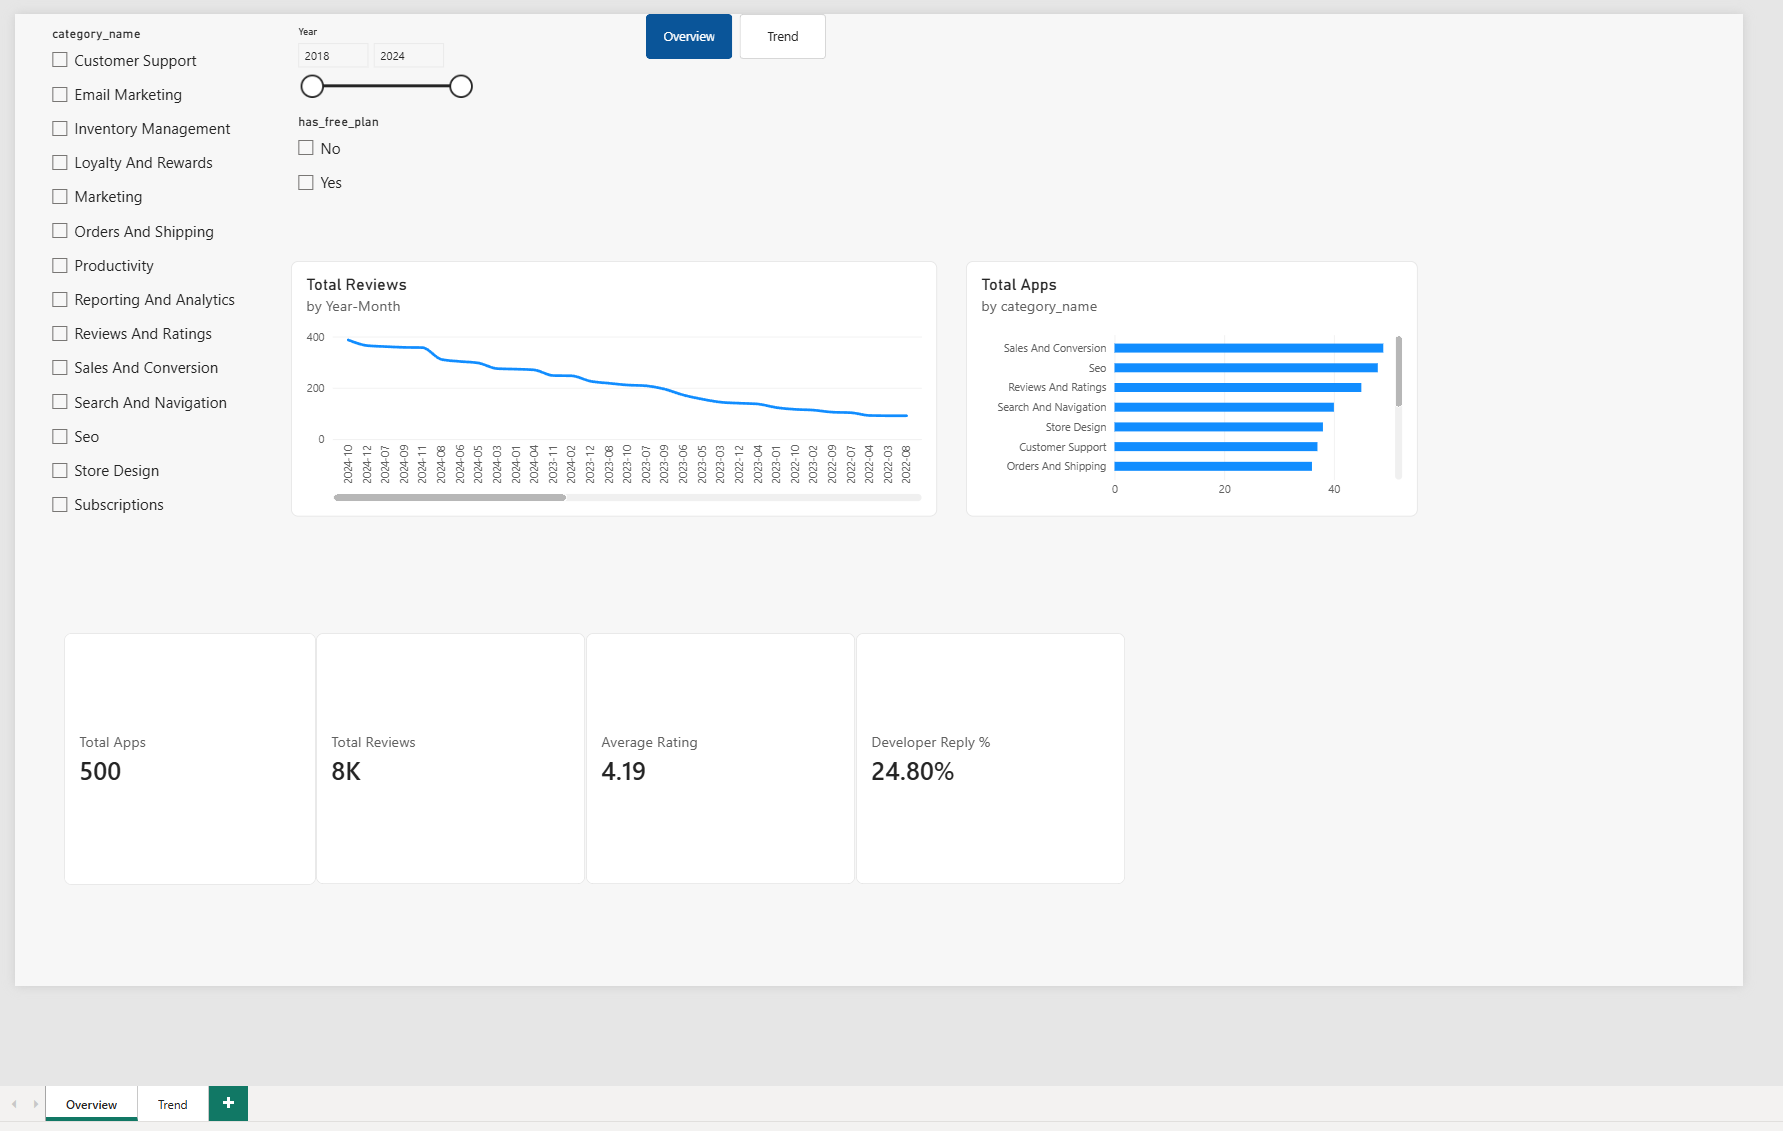

Layout of this report page (visuals, bound fields, positions):
{"tool":"powerbi","page":{"name":"Overview","canvas":[1920,1080],"ordinal":0},"visuals":[{"type":"cardVisual","fields":{"Data":["apps.Total Apps"]},"box":[55,687.6,280,280],"z":0},{"type":"cardVisual","fields":{"Data":["apps.Total Reviews"]},"box":[334.8,687.6,299.8,279.9],"z":1},{"type":"cardVisual","fields":{"Data":["apps.Average Rating"]},"box":[634.7,687.6,299.8,279.9],"z":2},{"type":"cardVisual","fields":{"Data":["apps.Developer Reply %"]},"box":[934.5,687.6,299.8,279.9],"z":3},{"type":"slicer","fields":{"Values":["apps.category_name"]},"box":[33,13,246.9,566.7],"z":4},{"type":"slicer","fields":{"Values":["dim_date.Year"]},"box":[306.8,13,204.9,97.9],"z":5},{"type":"slicer","fields":{"Values":["apps.has_free_plan"]},"box":[306.8,110.9,204.9,108.9],"z":6},{"type":"lineChart","fields":{"Category":["dim_date.Year-Month"],"Y":["apps.Total Reviews"]},"box":[306.8,274.9,717.6,283.9],"z":7},{"type":"clusteredBarChart","fields":{"Category":["apps.category_name"],"Y":["apps.Total Apps"]},"box":[1056.4,274.9,501.7,283.9],"z":8},{"type":"pageNavigator","box":[701.6,0,200,50],"z":9}]}

Visuals, with their boxes on the page's 1920x1080 design canvas (x1, y1, x2, y2). These are canvas units, not pixel positions in the 1783x1131 screenshot, which may show the page scaled, cropped or inside an application window:
cardVisual - apps.Total Apps: <bbox>55, 688, 335, 968</bbox>
cardVisual - apps.Total Reviews: <bbox>335, 688, 635, 968</bbox>
cardVisual - apps.Average Rating: <bbox>635, 688, 934, 968</bbox>
cardVisual - apps.Developer Reply %: <bbox>934, 688, 1234, 968</bbox>
slicer - apps.category_name: <bbox>33, 13, 280, 580</bbox>
slicer - dim_date.Year: <bbox>307, 13, 512, 111</bbox>
slicer - apps.has_free_plan: <bbox>307, 111, 512, 220</bbox>
lineChart - dim_date.Year-Month x apps.Total Reviews: <bbox>307, 275, 1024, 559</bbox>
clusteredBarChart - apps.category_name x apps.Total Apps: <bbox>1056, 275, 1558, 559</bbox>
pageNavigator: <bbox>702, 0, 902, 50</bbox>
